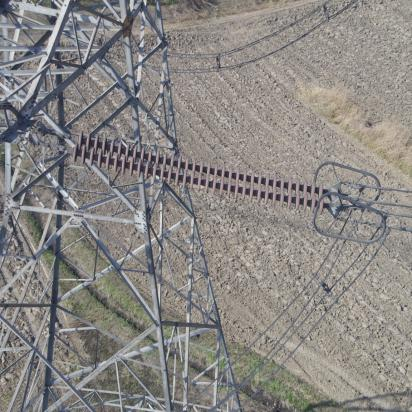insulator: (58, 129, 332, 217)
